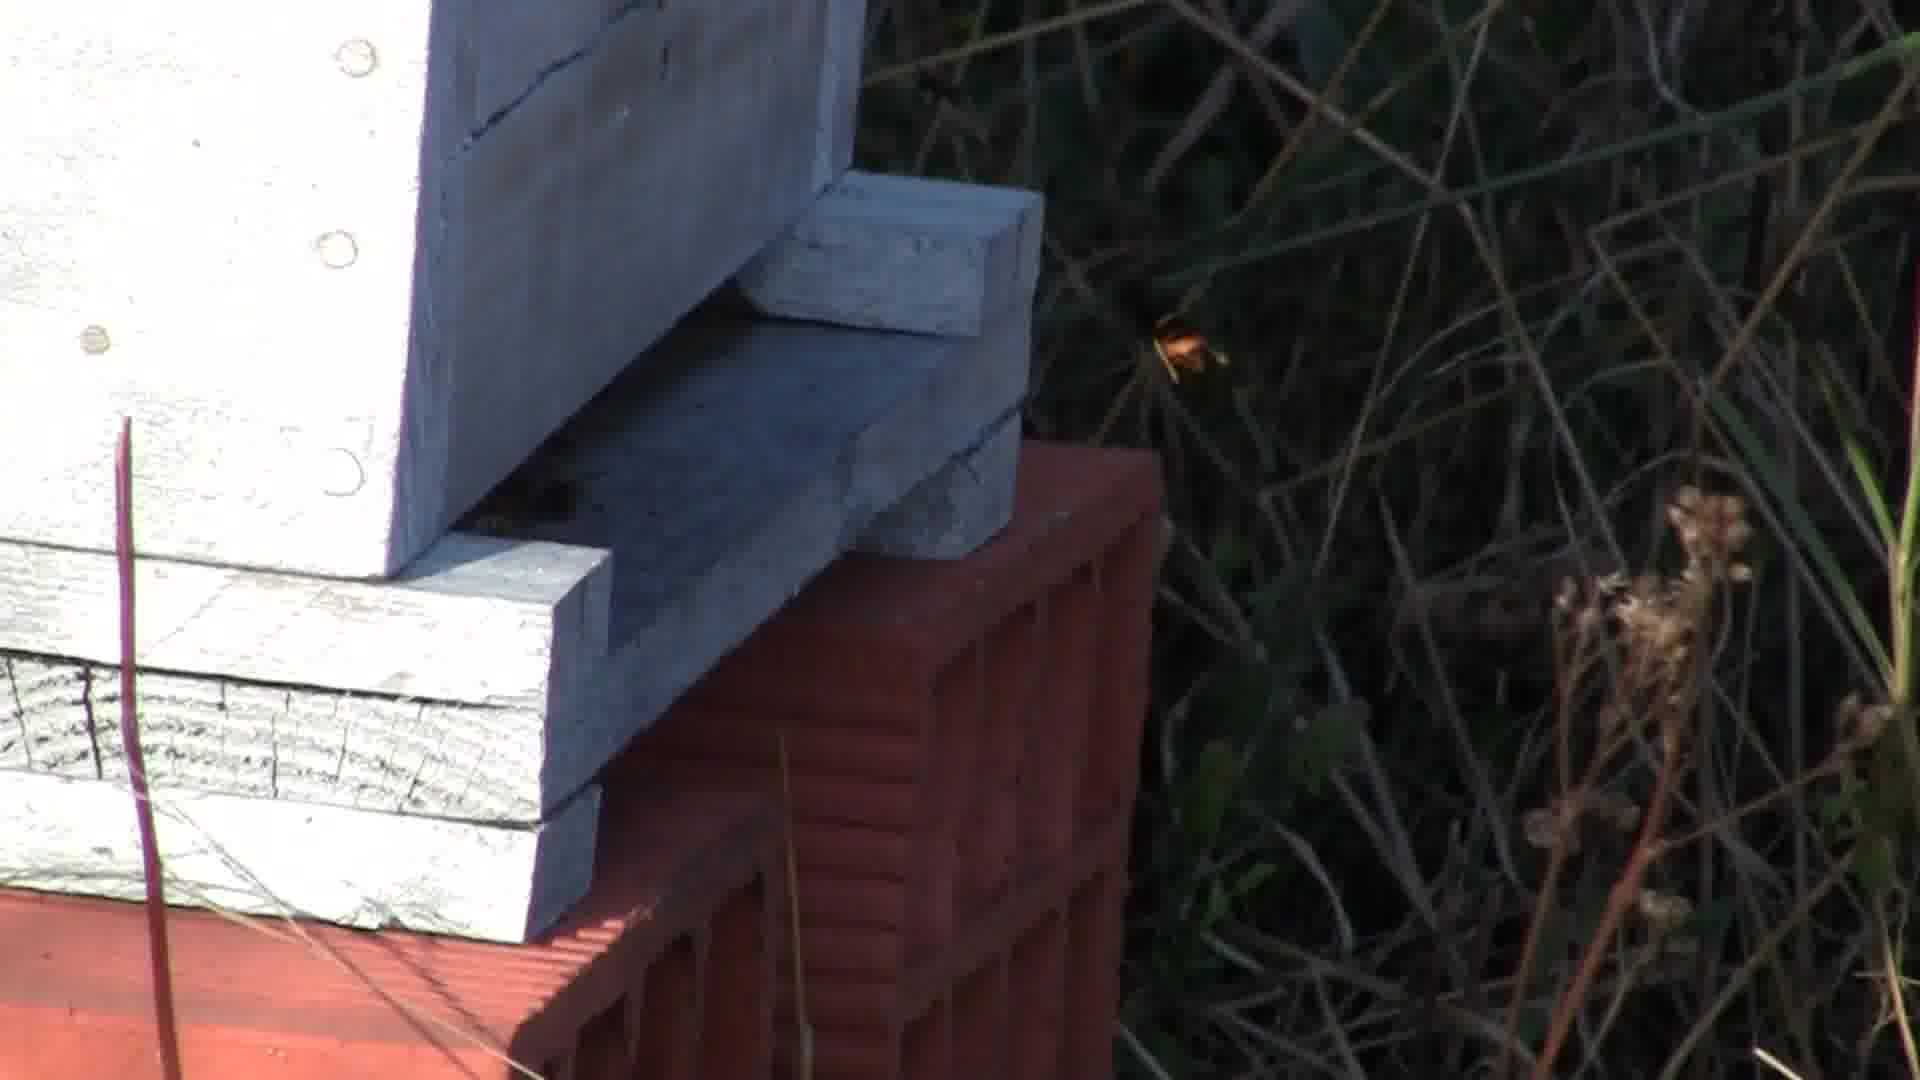hornet: (1098, 258, 1238, 386)
